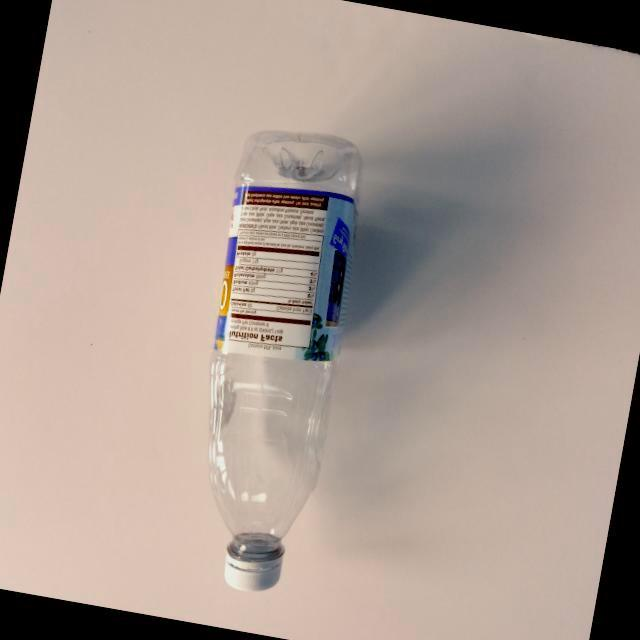plastic: (134, 89, 478, 626)
